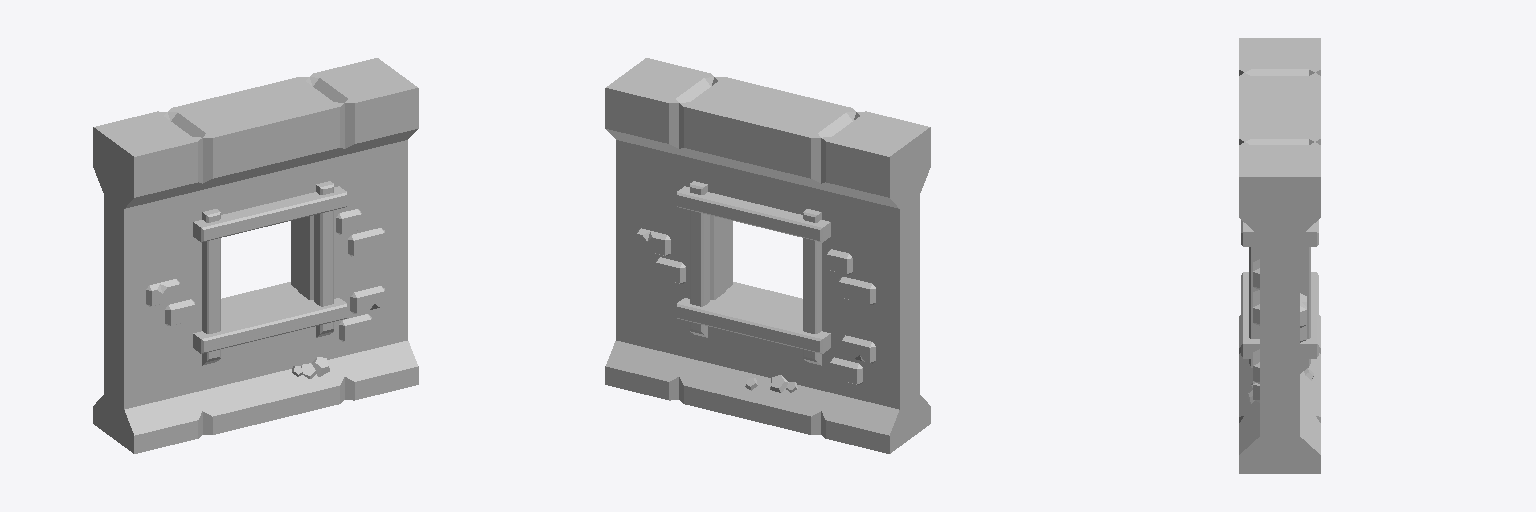
File: wall_window_open.obj
3 views of the same model, side by side, from view 1: azimuth 30°, elevation 25°; view 2: azimuth 150°, elevation 25°; view 3: azimuth 270°, elevation 25° (orthographic).
Visible parts, largest first — view 1: wall_window_open_Cube.075; view 2: wall_window_open_Cube.075; view 3: wall_window_open_Cube.075.
Boxes of the visible parts, x1=… form: wall_window_open_Cube.075: x1=93, y1=58, x2=418, y2=453; wall_window_open_Cube.075: x1=605, y1=58, x2=930, y2=453; wall_window_open_Cube.075: x1=1239, y1=38, x2=1320, y2=473.
Bounding box in the file's own units: 4 × 4 × 1.